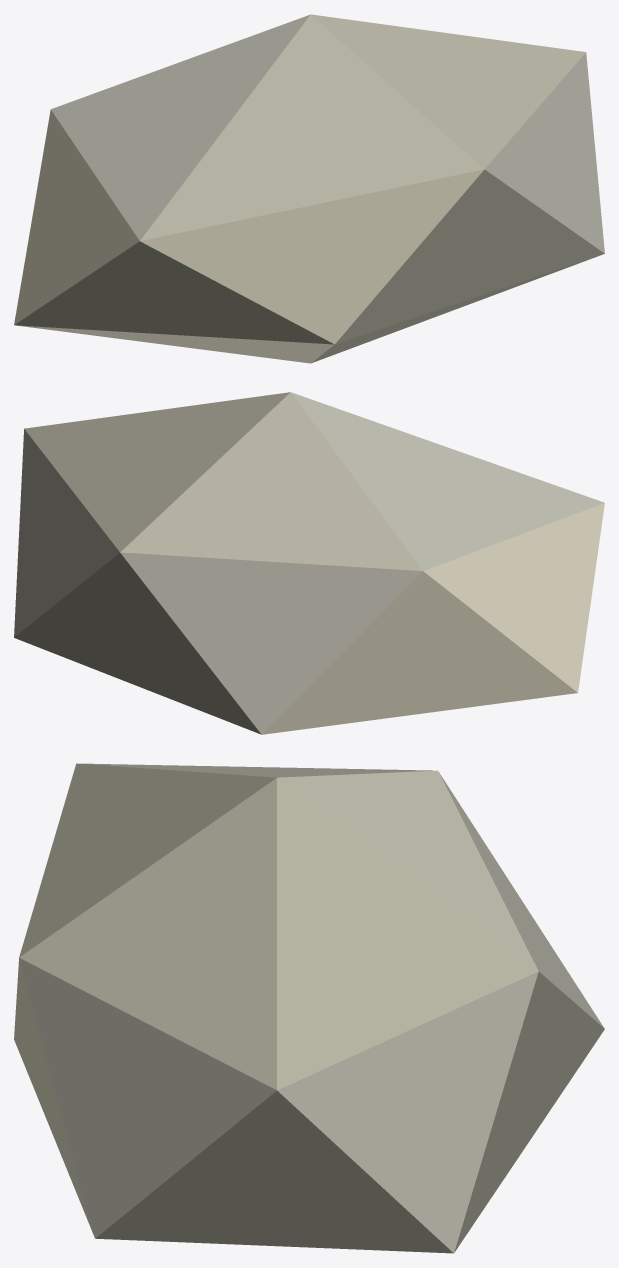
The model's file is Rock_C.fbx.
3 renders of one model, top to bottom at view 1: azimuth 30°, elevation 25°; view 2: azimuth 150°, elevation 25°; view 3: azimuth 270°, elevation 25°, orthographic. The views are drawn at different scales.
Parts seen in each view (by area): view 1: Rock_C; view 2: Rock_C; view 3: Rock_C.
Boxes of the visible parts, x1,y1,x2,y2 form: Rock_C: [14, 14, 604, 363]; Rock_C: [14, 392, 604, 734]; Rock_C: [14, 763, 604, 1253].
Size of the model in its own units: 213 by 124 by 146.
